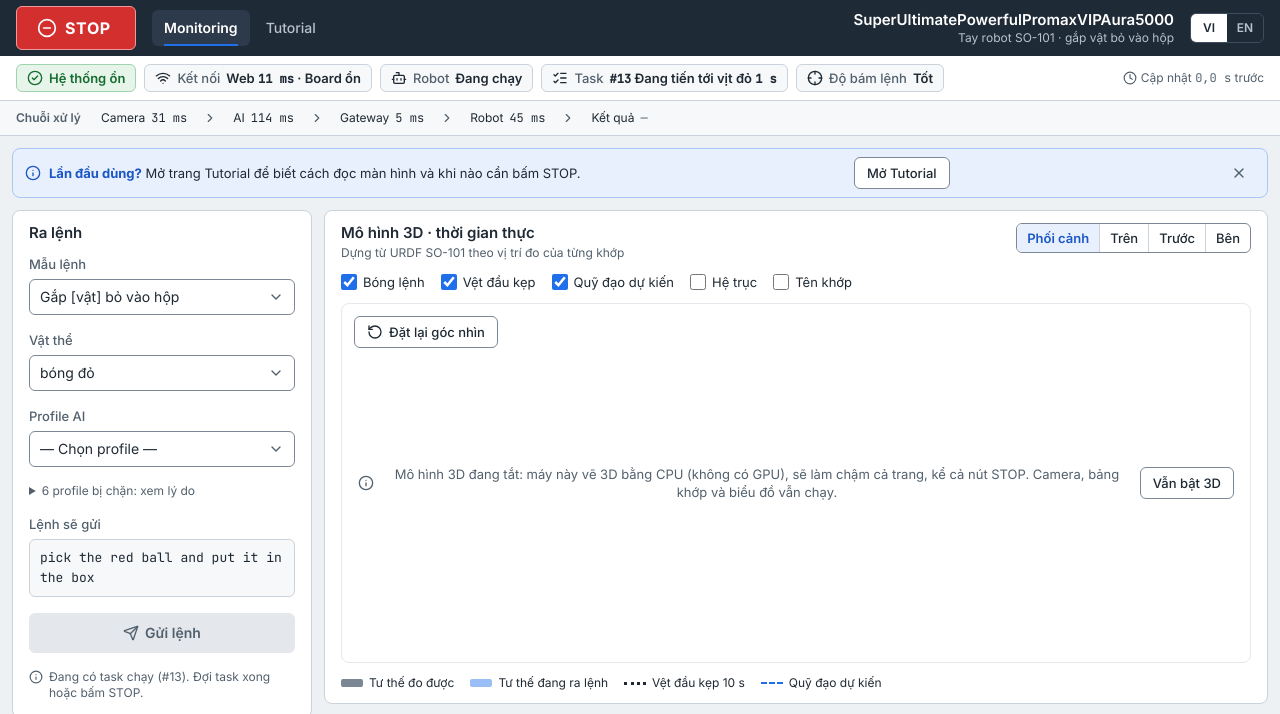
Test: App › without a stop ACK it says to check MuJoCo, never "stopped"
Click the button "STOP". click: x=76, y=28
box: [16,6,136,50]
Wait 2100 ms
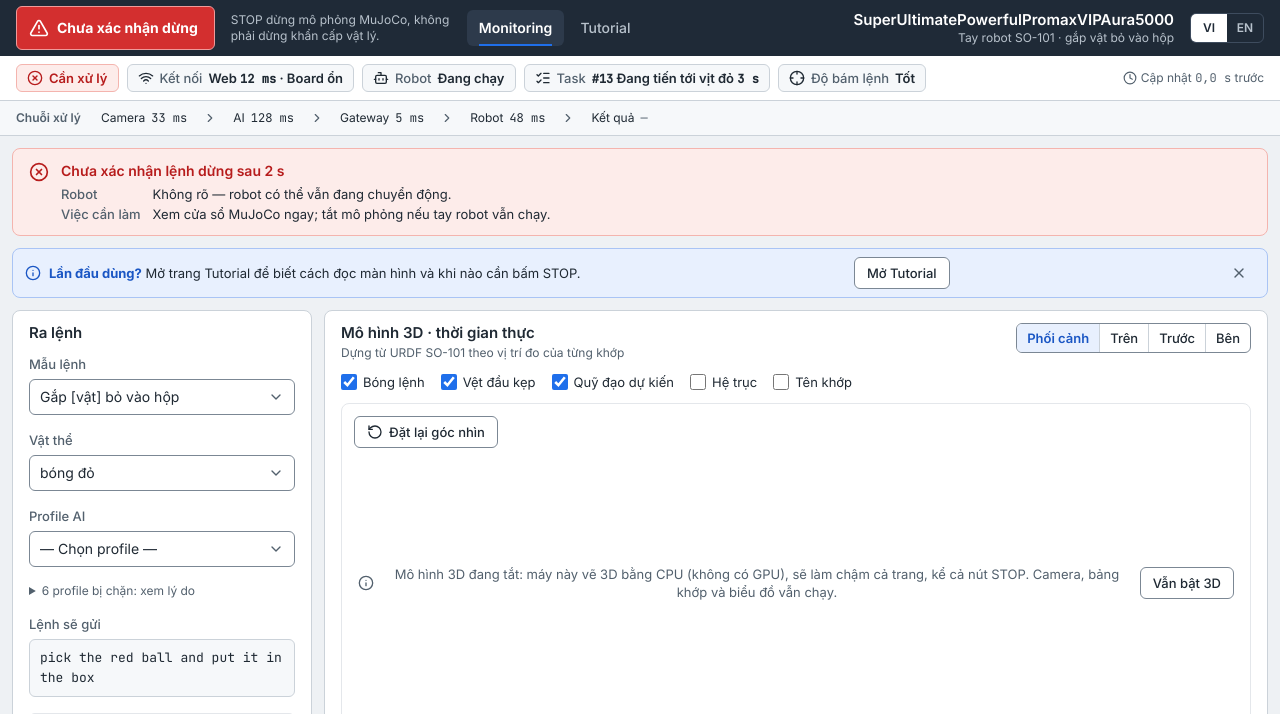
Now the button "Chưa xác nhận dừng" is shown, box [16,6,215,50]
Now the text "STOP dừng mô phỏng MuJoCo, không phải dừng khẩn cấp vật lý." is shown, box [231,12,451,44]
Now the text "Chưa xác nhận lệnh dừng sau 2 s" is shown, box [61,162,284,179]
